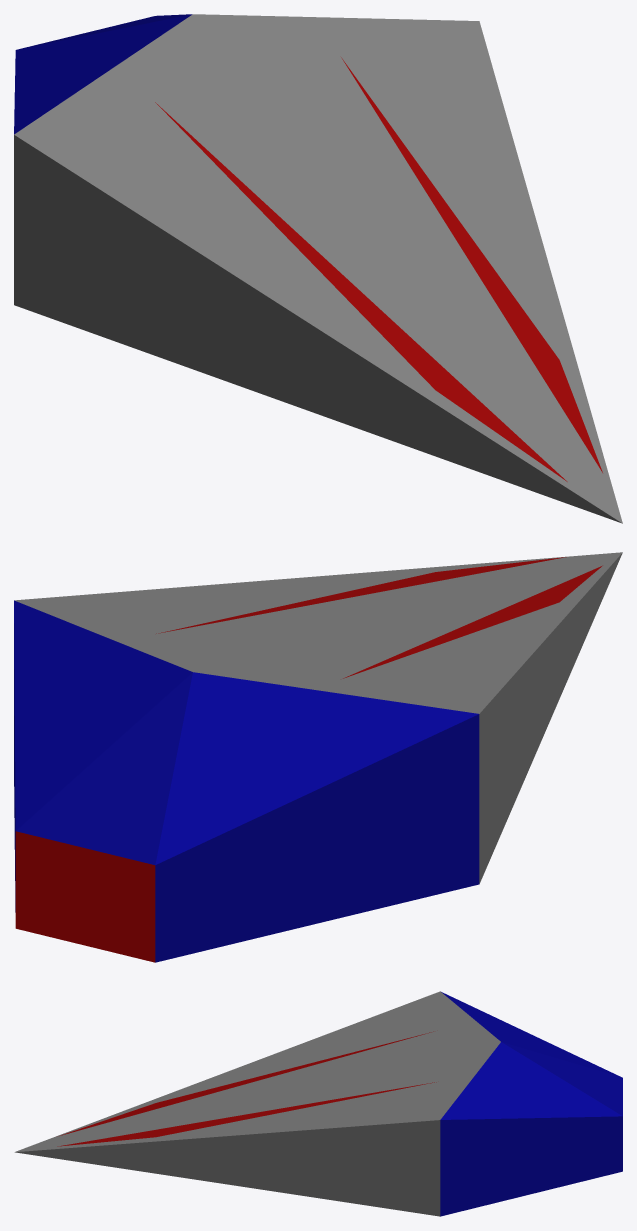
File: fer_de_lance.obj
3 views of the same model, one above another, from view 1: azimuth 30°, elevation 25°; view 2: azimuth 150°, elevation 25°; view 3: azimuth 270°, elevation 25° (orthographic). The views are drawn at different scales.
Visible parts, largest first — view 1: fer_de_lance; view 2: fer_de_lance; view 3: fer_de_lance.
Boxes of the visible parts, left/top/right/bottom form: fer_de_lance: left=14, top=14, right=622, bottom=523; fer_de_lance: left=14, top=552, right=622, bottom=962; fer_de_lance: left=14, top=991, right=622, bottom=1216.
Bounding box in the file's own units: 80 × 32 × 160.
